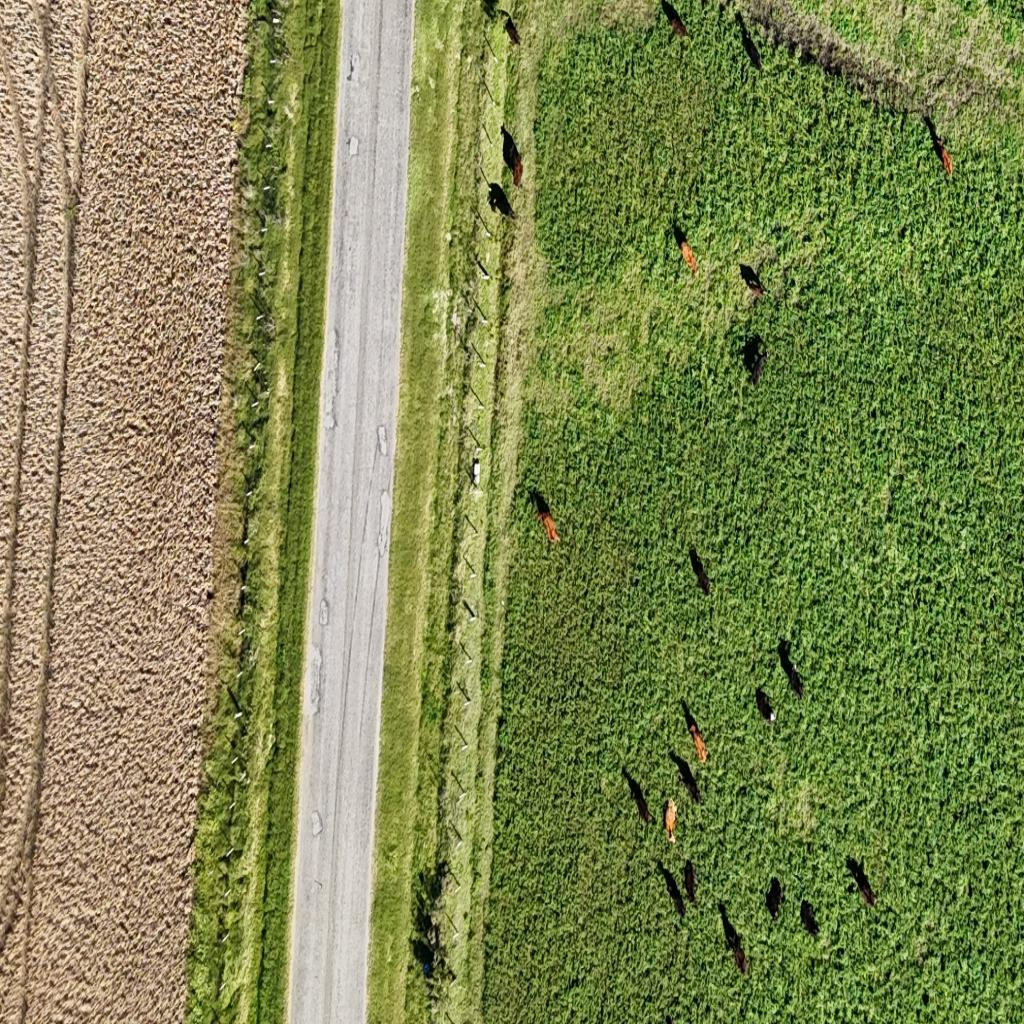cow: (682, 701, 710, 770), (720, 909, 748, 977), (656, 857, 686, 919), (528, 488, 560, 544), (926, 116, 954, 179), (672, 754, 702, 807), (741, 327, 768, 383), (501, 123, 523, 189), (740, 19, 764, 76), (673, 222, 698, 274), (487, 180, 516, 223), (661, 0, 689, 43), (740, 260, 768, 303), (496, 6, 522, 50), (854, 864, 878, 910), (690, 547, 712, 597), (800, 898, 820, 938), (766, 878, 784, 922), (756, 687, 776, 726), (683, 859, 698, 904), (664, 799, 678, 845)
